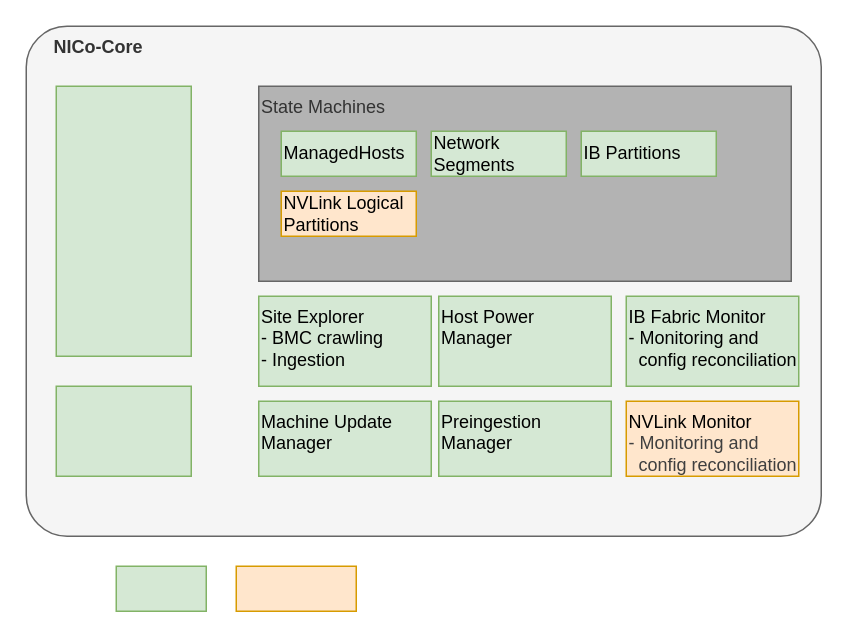
Some shapes in this 848 by 638 pixel diagram are drawn without their labels. Each missing label, with the centre of its shape:
"available" belongs at point (160, 588).
"Debug Web UI" belongs at point (123, 430).
"gRPC APIs" belongs at point (123, 220).
"in-progress" belongs at point (295, 588).
